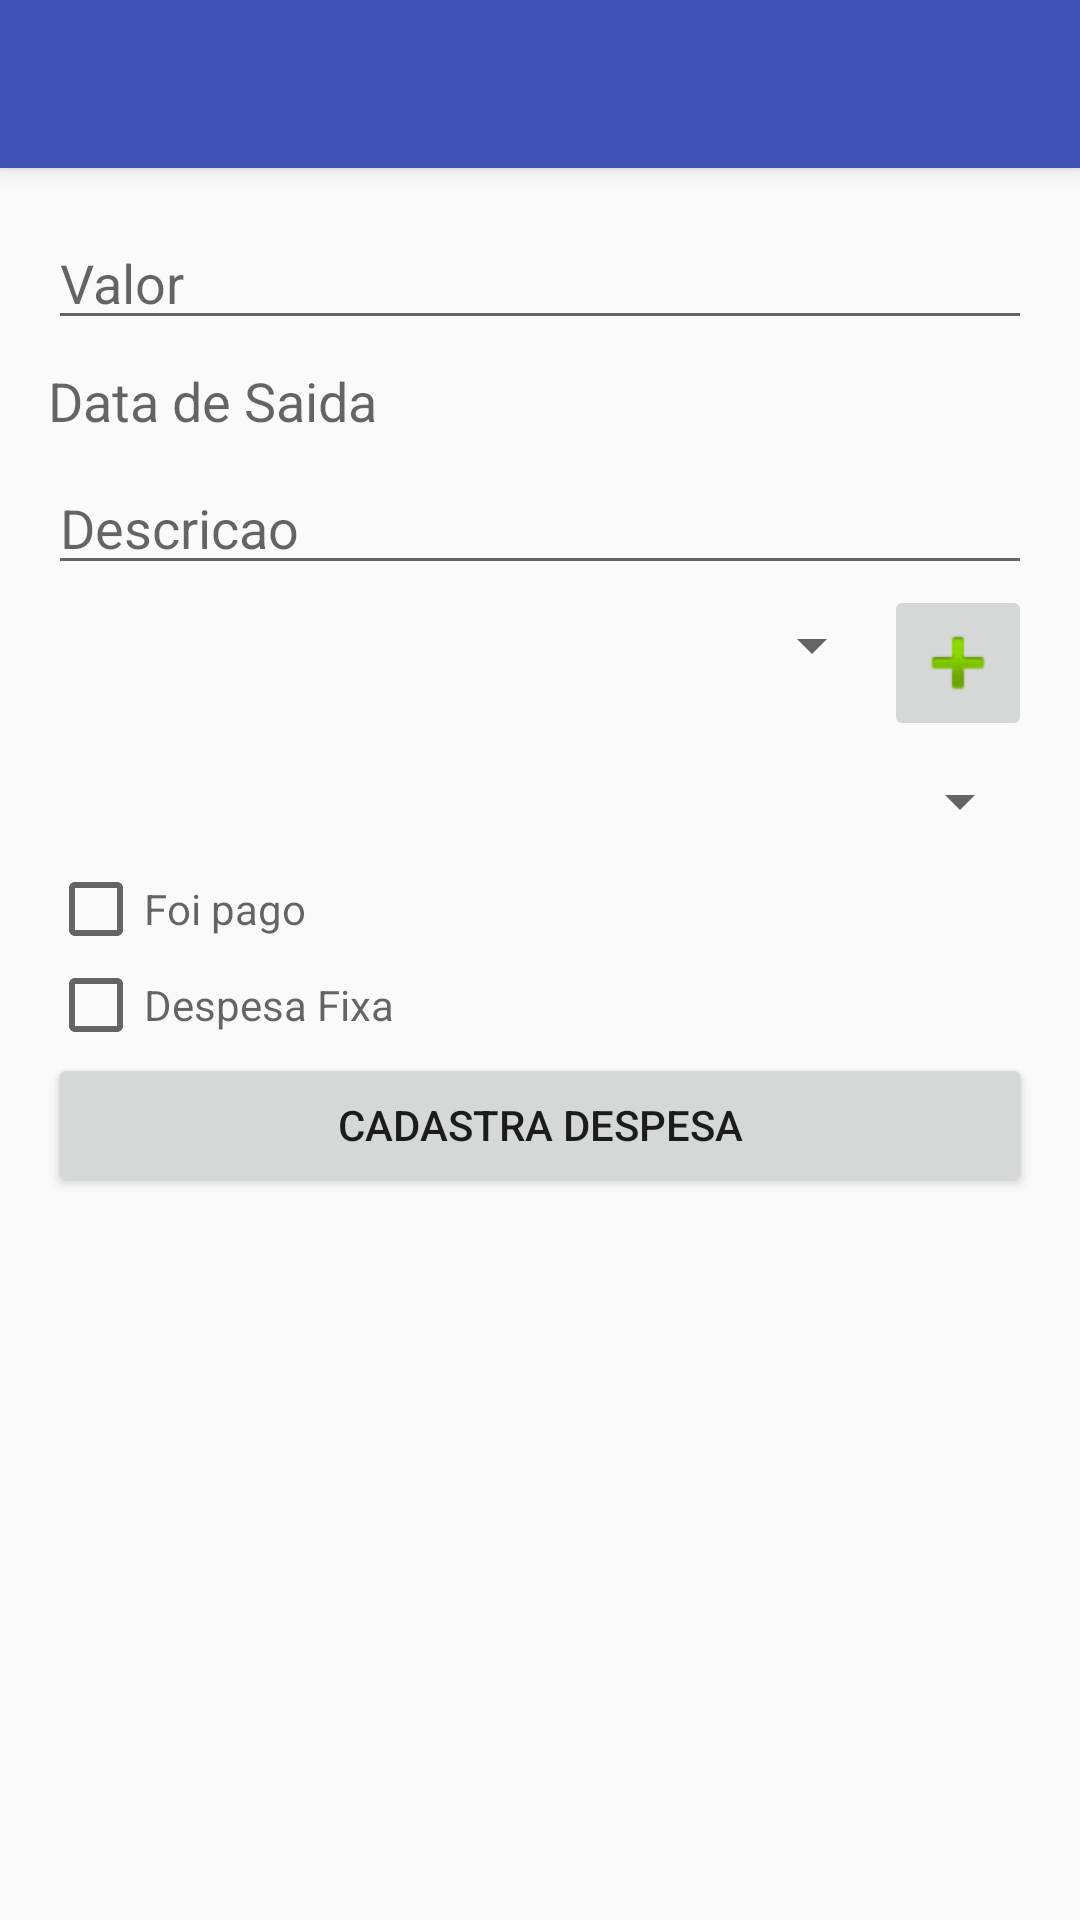

Where to tap for icons on this 1080*1920 app screen, as (x,y):
add: (958,663)
